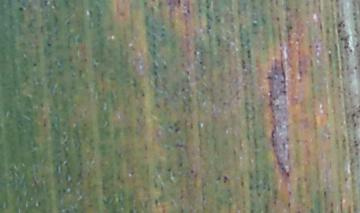tarspot: (335, 19, 354, 54), (350, 112, 358, 130), (327, 199, 336, 213), (351, 135, 360, 149), (174, 141, 186, 151), (322, 188, 329, 200), (173, 126, 182, 135), (41, 116, 48, 127), (153, 197, 160, 208), (37, 100, 45, 109), (286, 200, 292, 211), (246, 47, 251, 60), (221, 175, 229, 183), (175, 1, 182, 10), (31, 61, 38, 69), (284, 170, 291, 178), (45, 42, 54, 48), (204, 1, 210, 10), (17, 6, 24, 13), (166, 167, 173, 174), (251, 21, 258, 28), (177, 160, 183, 168), (126, 209, 137, 213), (179, 86, 185, 93), (288, 24, 294, 31), (353, 64, 359, 71), (198, 58, 204, 65), (140, 90, 145, 98), (189, 168, 194, 175), (275, 15, 280, 22), (149, 1, 158, 3)
